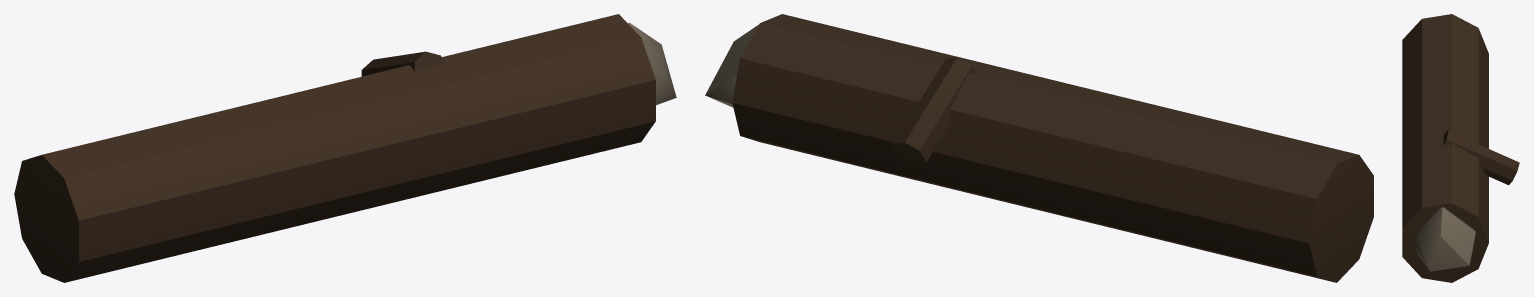
The model's file is prop_log.glb.
3 renders of one model, left to right at view 1: azimuth 30°, elevation 25°; view 2: azimuth 150°, elevation 25°; view 3: azimuth 270°, elevation 25°, orthographic. The views are drawn at different scales.
Visible parts, largest first — view 1: prop; view 2: prop; view 3: prop.
Boxes of the visible parts, left/top/right/bottom form: prop: left=14, top=14, right=676, bottom=282; prop: left=705, top=14, right=1373, bottom=282; prop: left=1402, top=14, right=1519, bottom=282.
Size of the model in its own units: 3.65 by 0.7362 by 0.893.
